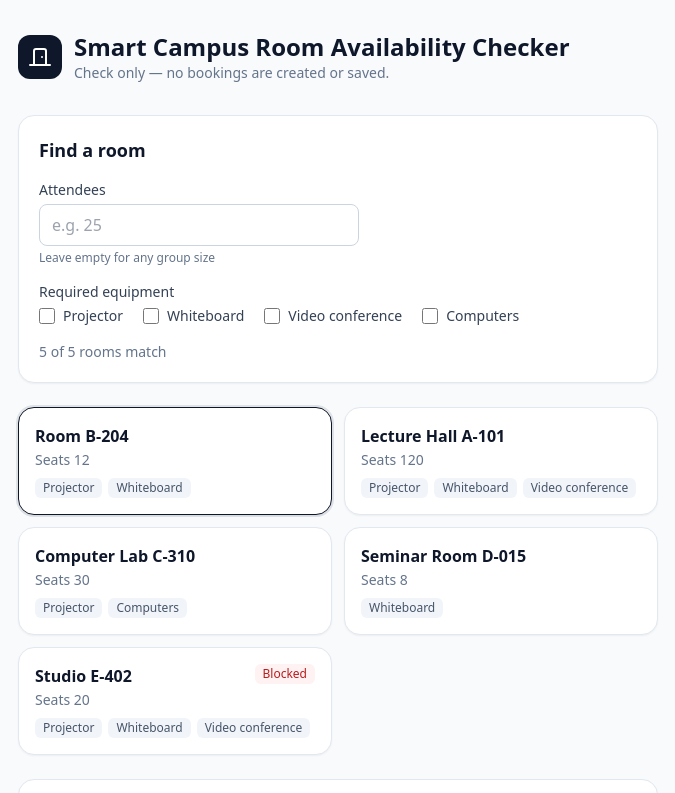
Test: Assignment 3 behavior in the multi-room UI › blocked room reports "Room is blocked" before any other reason (Fix 2, now via room data)
Click the button "Studio E-402" at point(83, 676), box [18, 647, 332, 755]
(page scrolled)
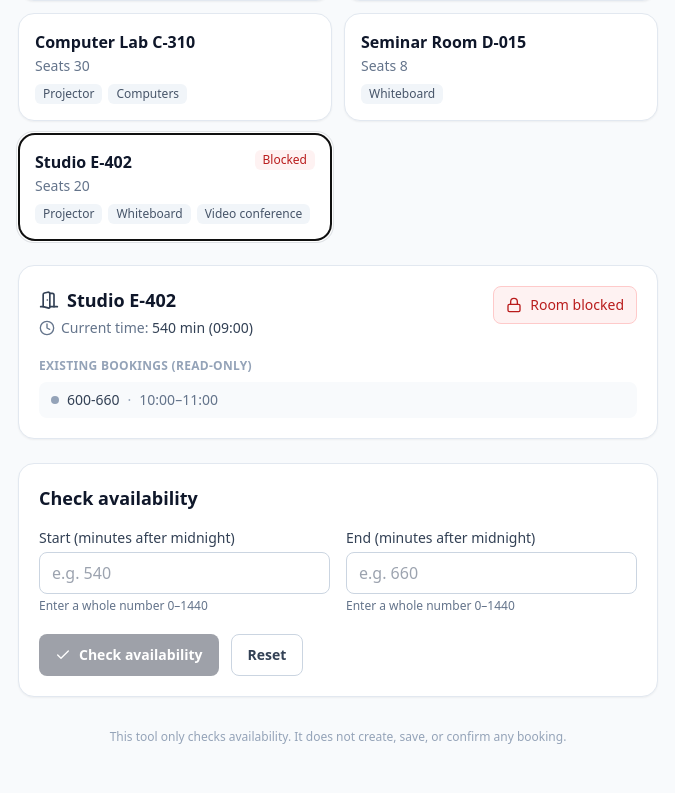
Type "700" into the number field labelled "Start (minutes after midnight)" at point(184, 573), box [39, 552, 330, 594]
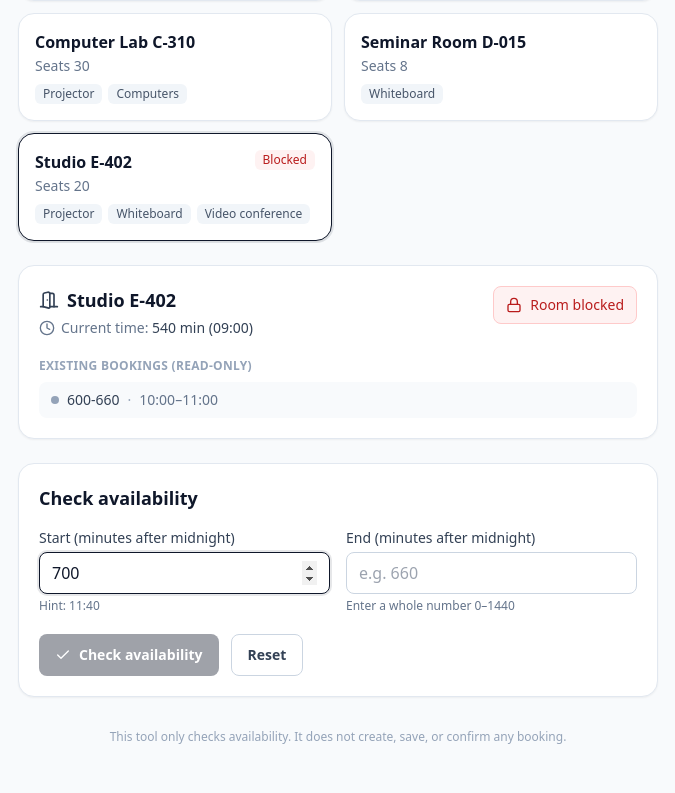
Type "650" into the number field labelled "End (minutes after midnight)" at point(492, 573), box [346, 552, 637, 594]
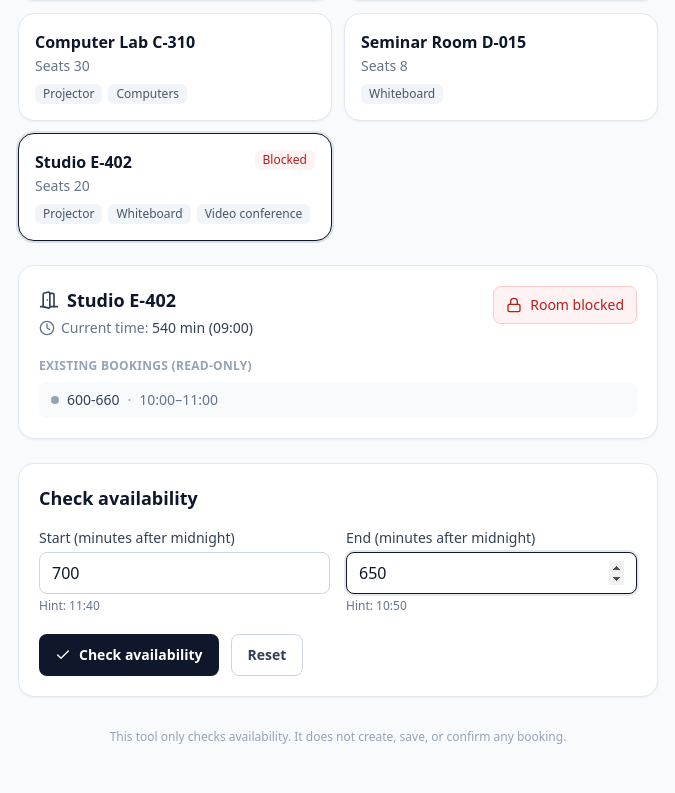
Click the button "Check availability" at point(129, 655), box [39, 634, 218, 676]
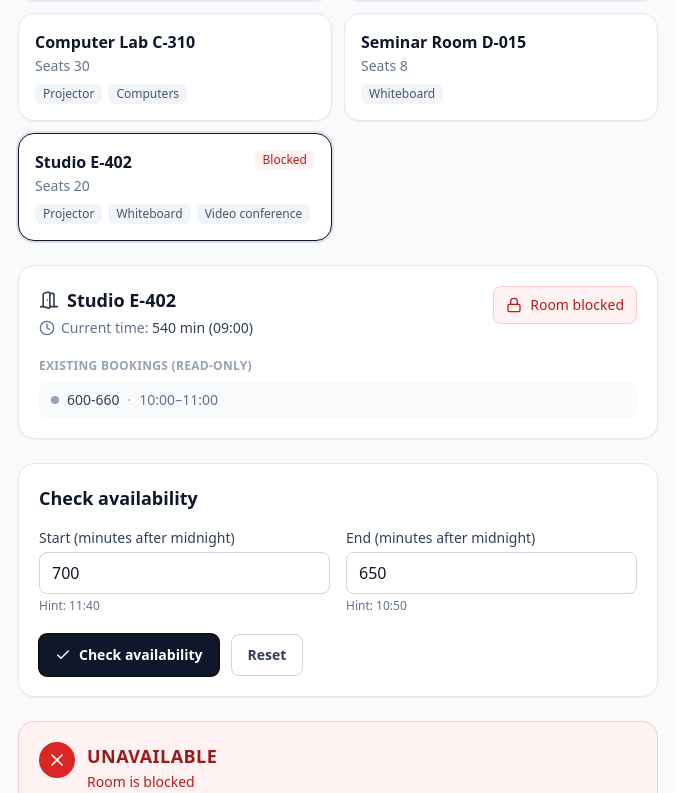
Expected: the text "Room is blocked" is shown, [87, 772, 195, 791]
